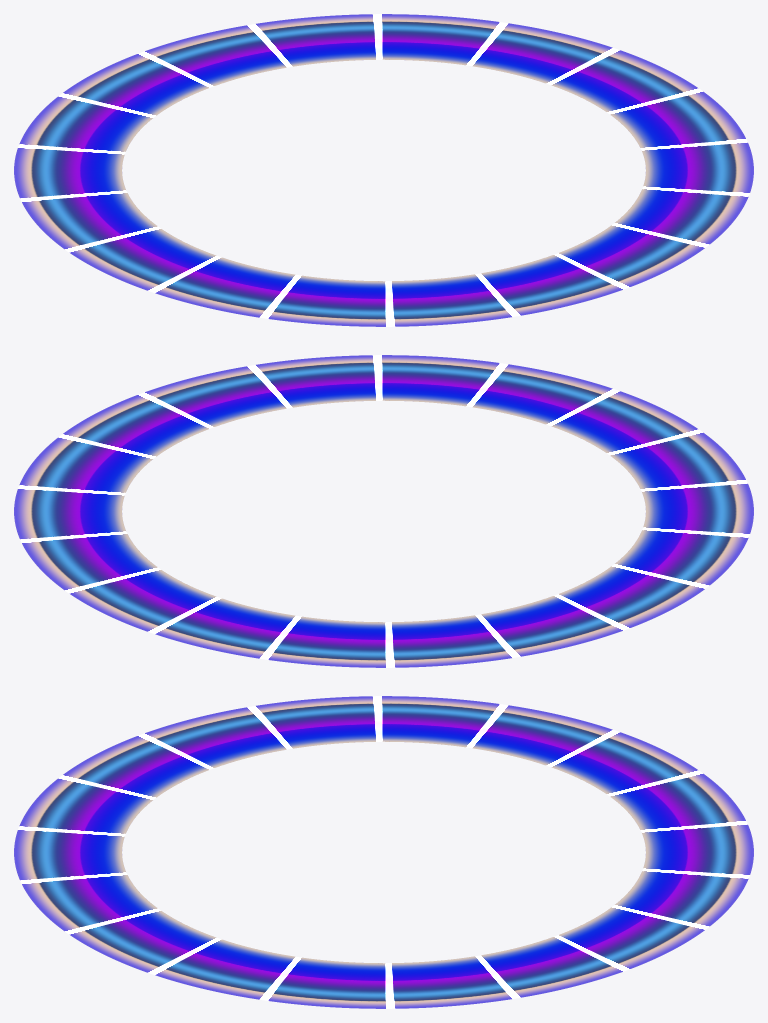
The model's file is SM_PlanetRing.fbx.
3 renders of one model, top to bottom at view 1: azimuth 30°, elevation 25°; view 2: azimuth 150°, elevation 25°; view 3: azimuth 270°, elevation 25°, orthographic.
Parts seen in each view (by area): view 1: SM_PlanetRing_LOD0; view 2: SM_PlanetRing_LOD0; view 3: SM_PlanetRing_LOD0.
Boxes of the visible parts, <box> form: SM_PlanetRing_LOD0: <box>14,14,753,326</box>; SM_PlanetRing_LOD0: <box>14,355,753,667</box>; SM_PlanetRing_LOD0: <box>14,696,753,1008</box>.
Size of the model in its own units: 985 by 985 by 0.000117.
1 material, 1 textured.
